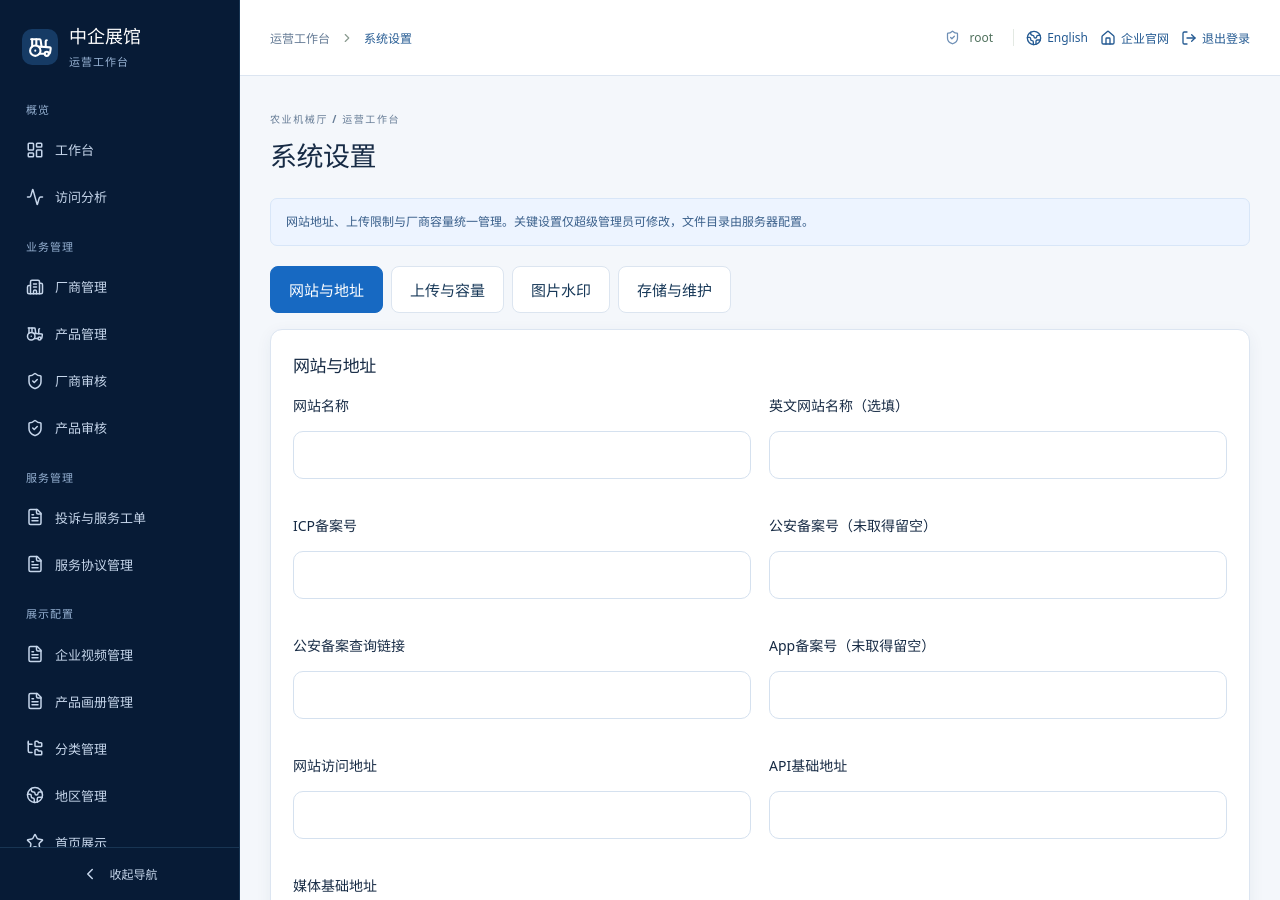
Test case: edits settings and refreshes runtime without recompilation
This screenshot has width=1280, height=900.
Type "测试站点" into the field labelled "网站名称" at [522, 455], box top-left (293, 431), bottom-right (751, 479)
(page scrolled)
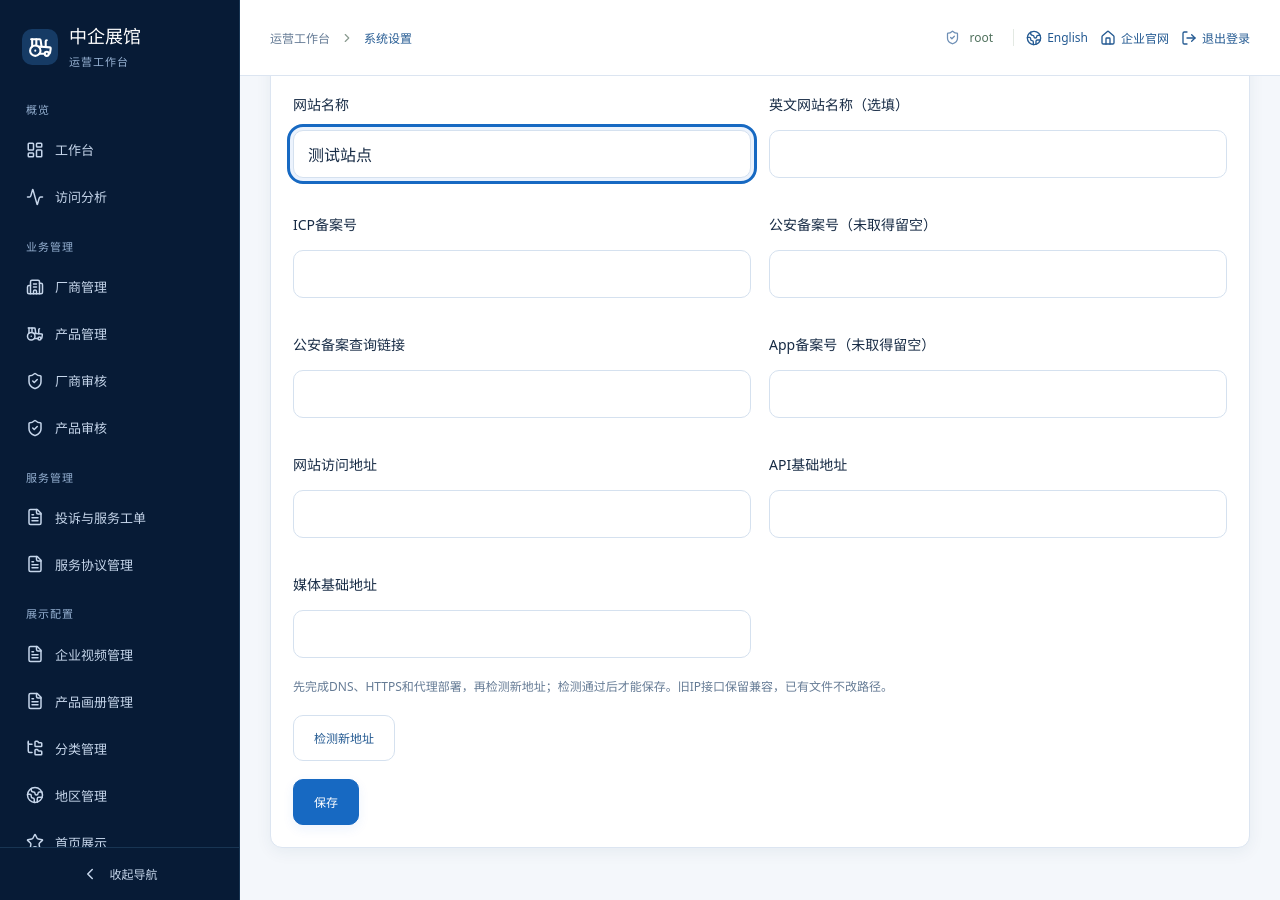
Click the button "保存" at [326, 802], box top-left (293, 779), bottom-right (359, 825)
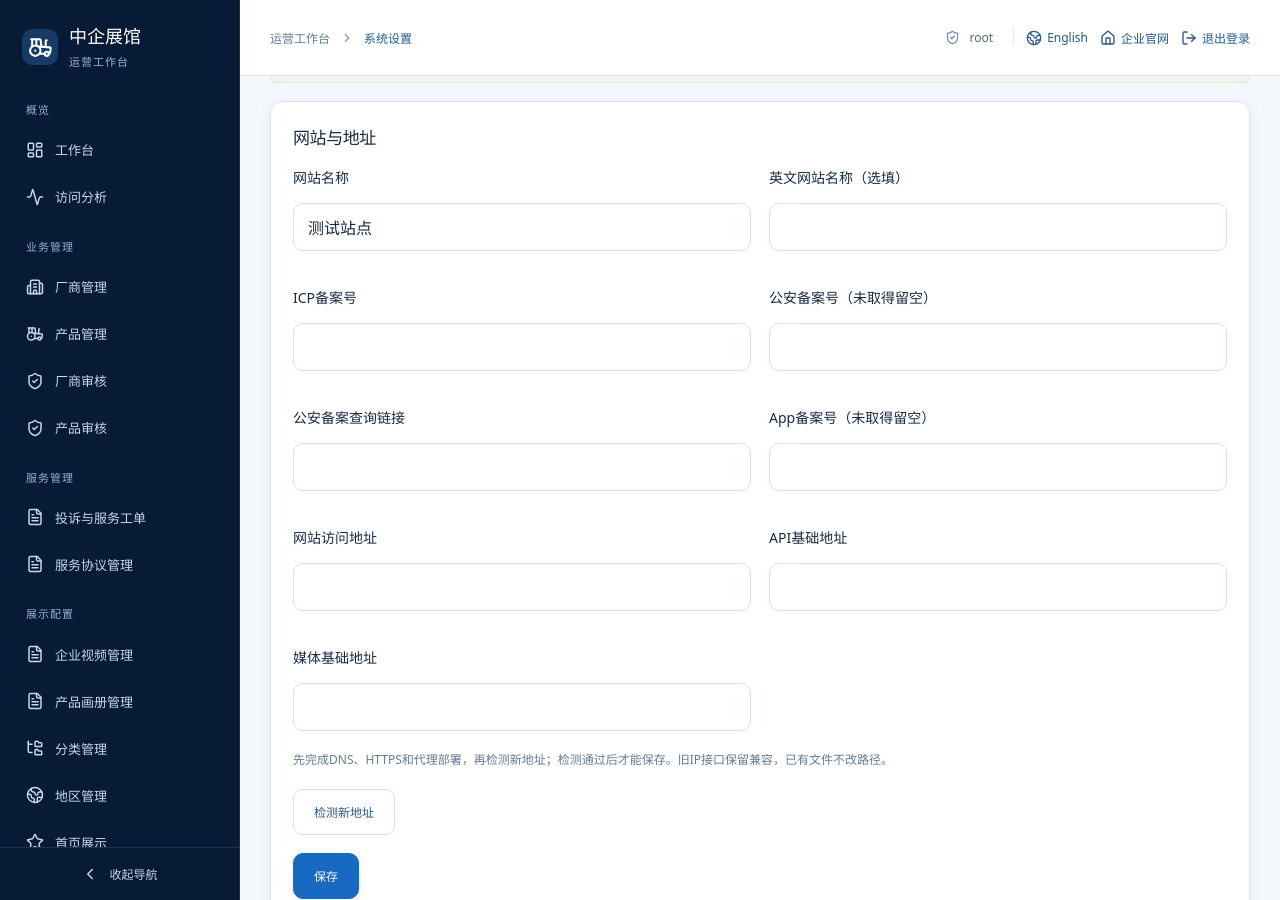
Expected: the text "设置已保存" is shown, top-left (270, 30), bottom-right (1250, 83)
